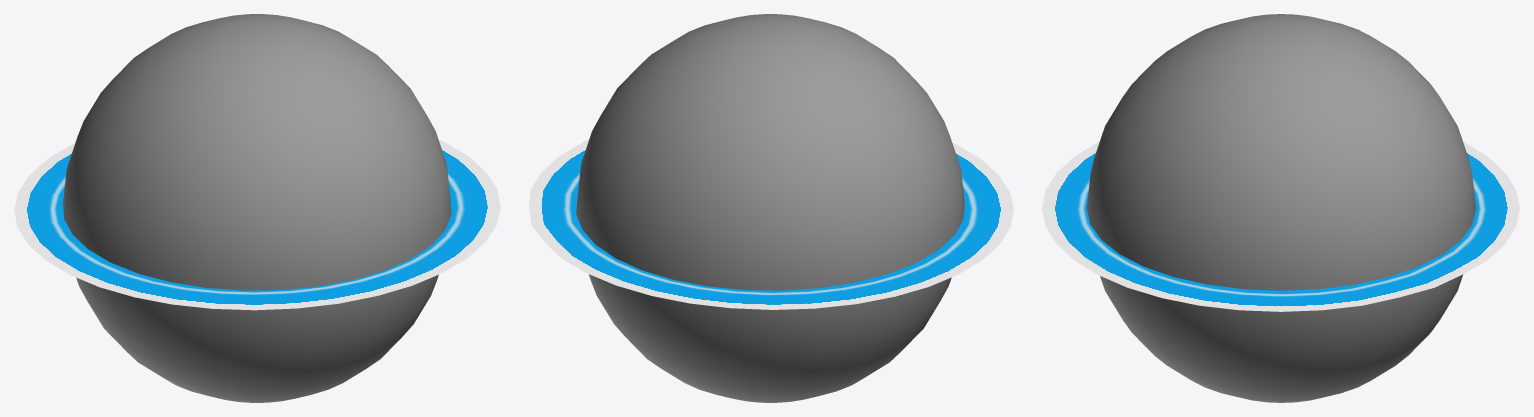
File: planet_frost.FBX
The picture shows the model from 3 angles, left to right: view 1: azimuth 30°, elevation 25°; view 2: azimuth 150°, elevation 25°; view 3: azimuth 270°, elevation 25°; orthographic projection.
Parts seen in each view (by area): view 1: planet_frost, planet_frost_glow; view 2: planet_frost, planet_frost_glow; view 3: planet_frost, planet_frost_glow.
Part boxes in pixels (box(x1,y1,x2,y2)): planet_frost: box(63, 14, 451, 402); planet_frost_glow: box(14, 140, 500, 310); planet_frost: box(576, 14, 964, 402); planet_frost_glow: box(529, 139, 1013, 309); planet_frost: box(1086, 14, 1475, 402); planet_frost_glow: box(1042, 141, 1519, 311).
Size of the model in its own units: 1.57 by 1.25 by 1.54.
